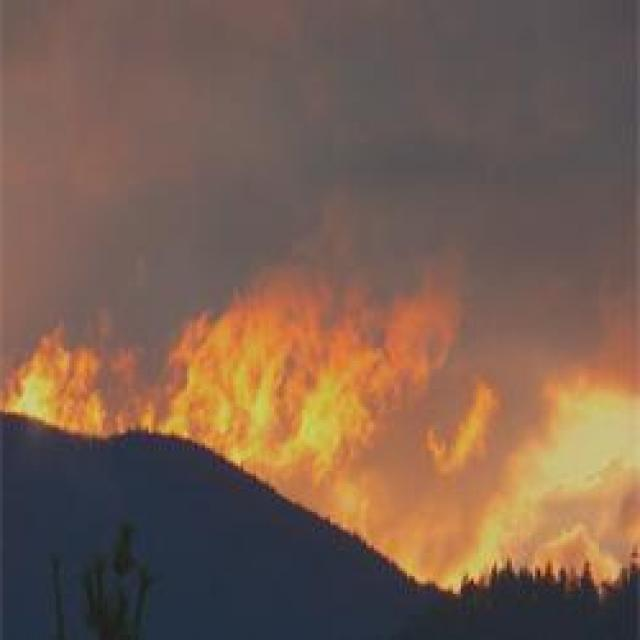fire: (7, 330, 102, 430), (195, 350, 273, 423), (302, 392, 354, 458)
smoke: (538, 356, 634, 486), (560, 525, 592, 555)
